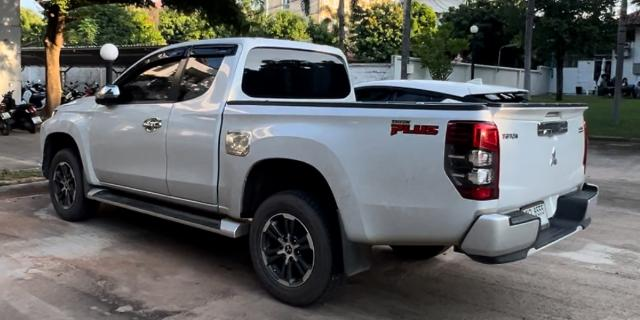pickup-truck: (39, 39, 602, 313)
